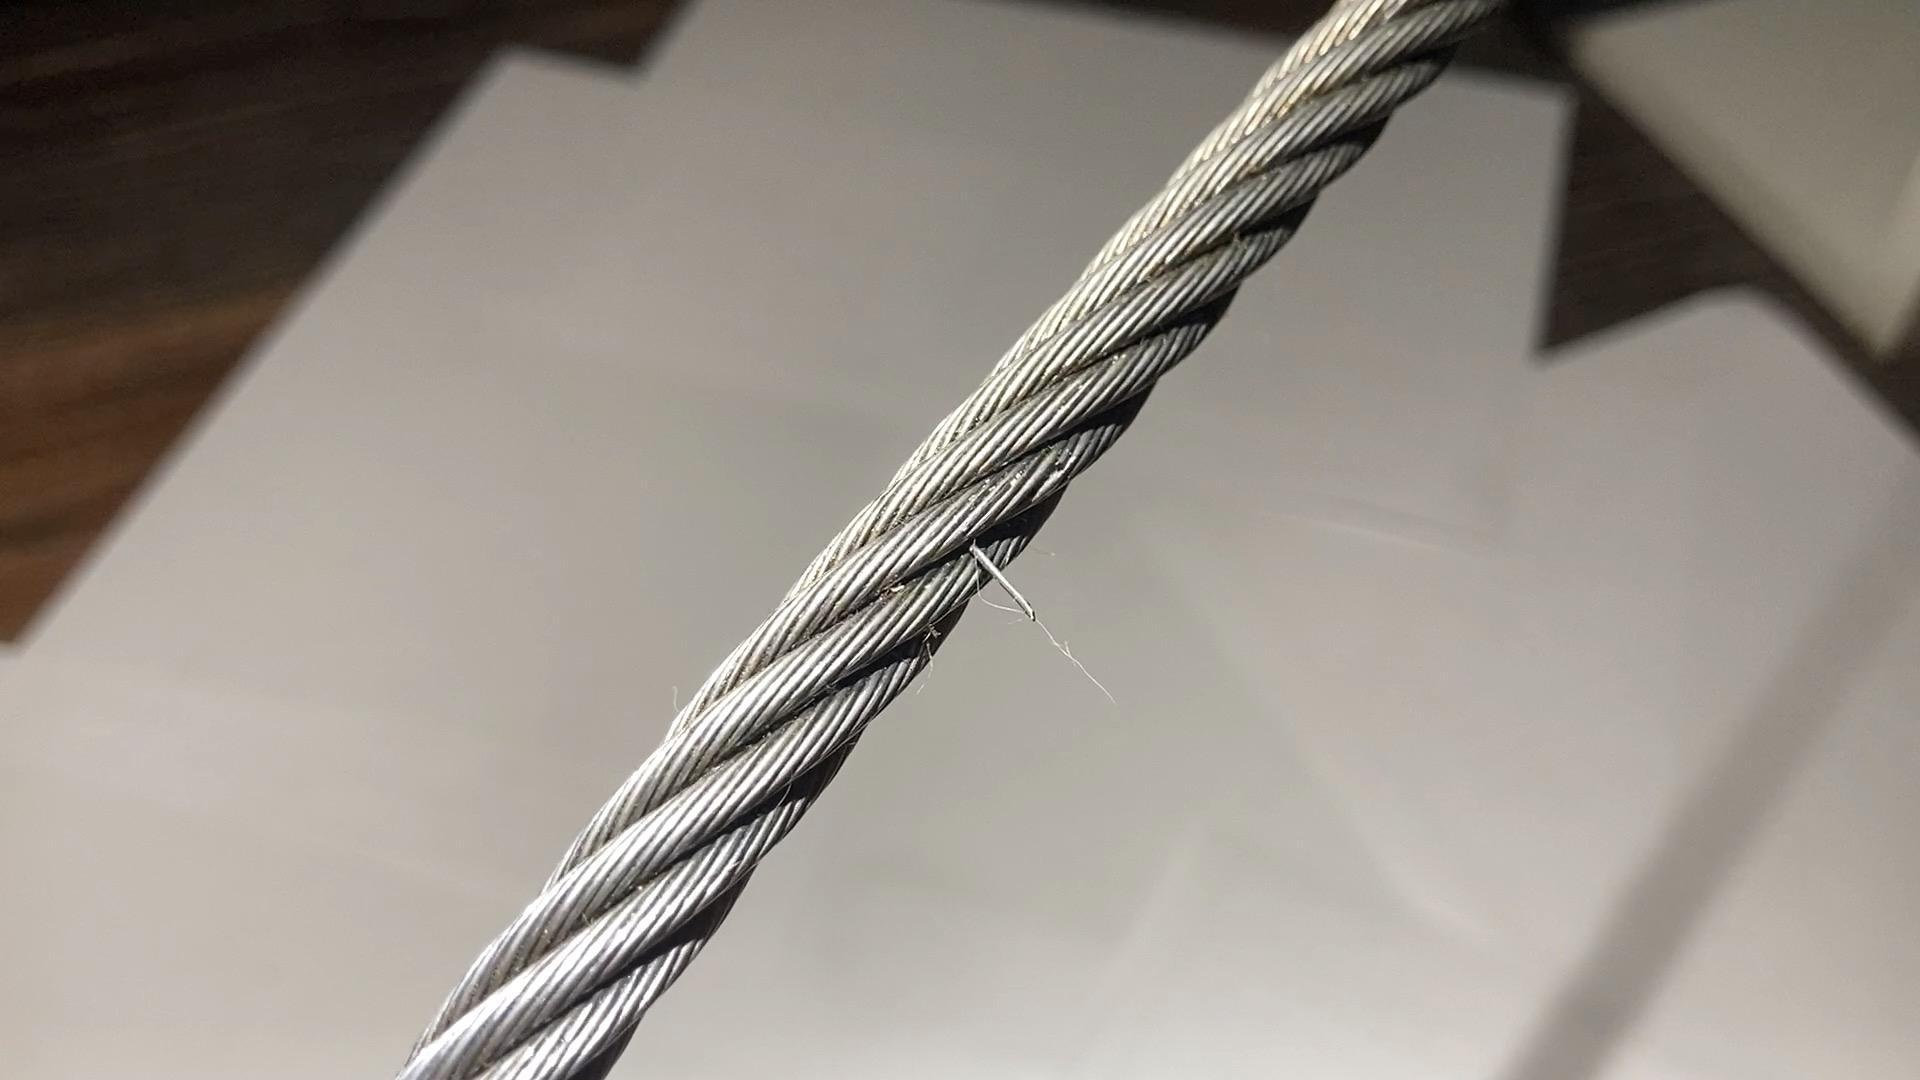break: (955, 520, 1068, 640)
